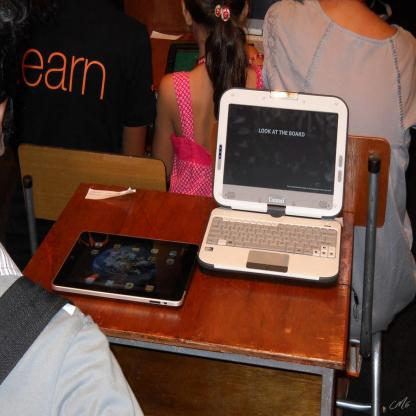board: (196, 89, 358, 295)
